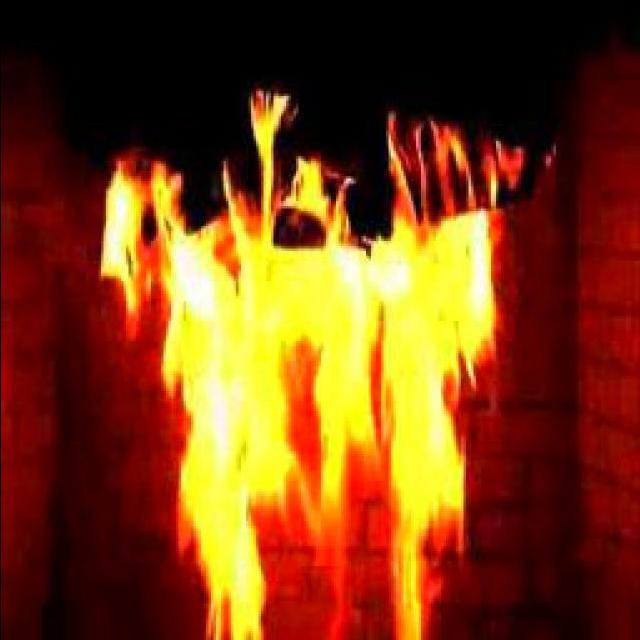Fire: (116, 190, 478, 585)
